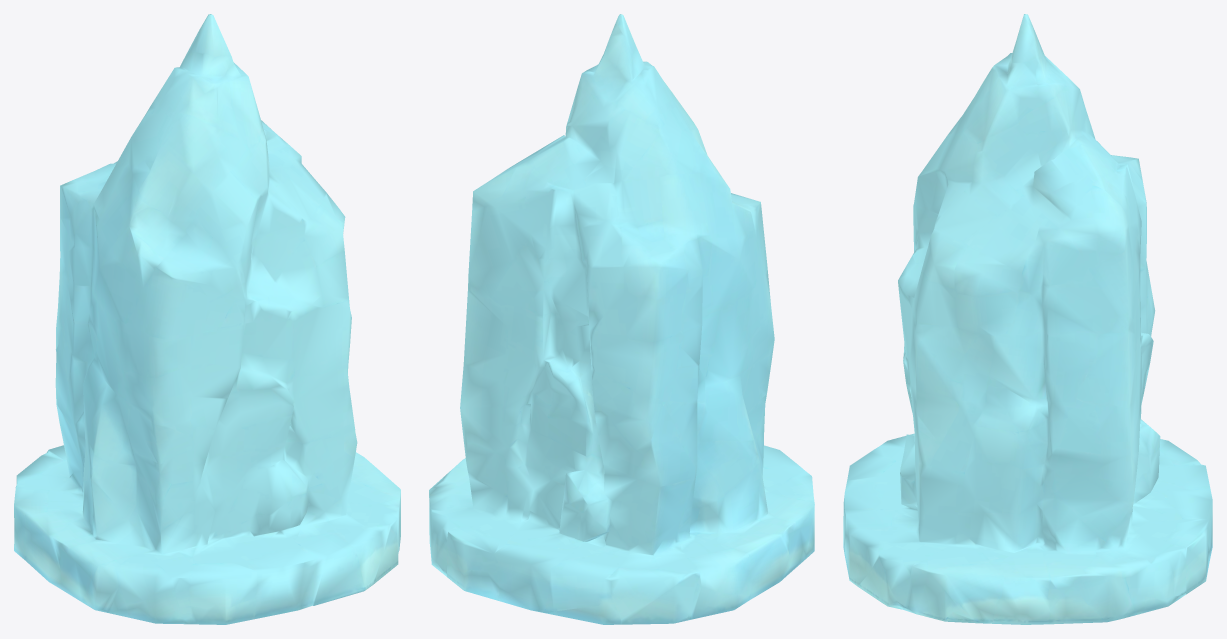
The model's file is iceberg_mid.glb.
The picture shows the model from 3 angles, left to right: view 1: azimuth 30°, elevation 25°; view 2: azimuth 150°, elevation 25°; view 3: azimuth 270°, elevation 25°; orthographic projection.
Bounding box in the file's own units: 1.19 × 1.9 × 1.19.
1 material, 1 textured.
